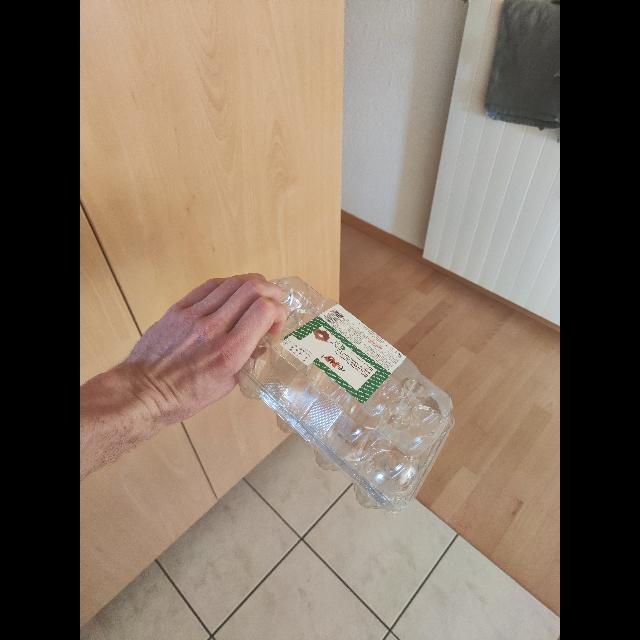Plastic: (237, 277, 457, 513)
